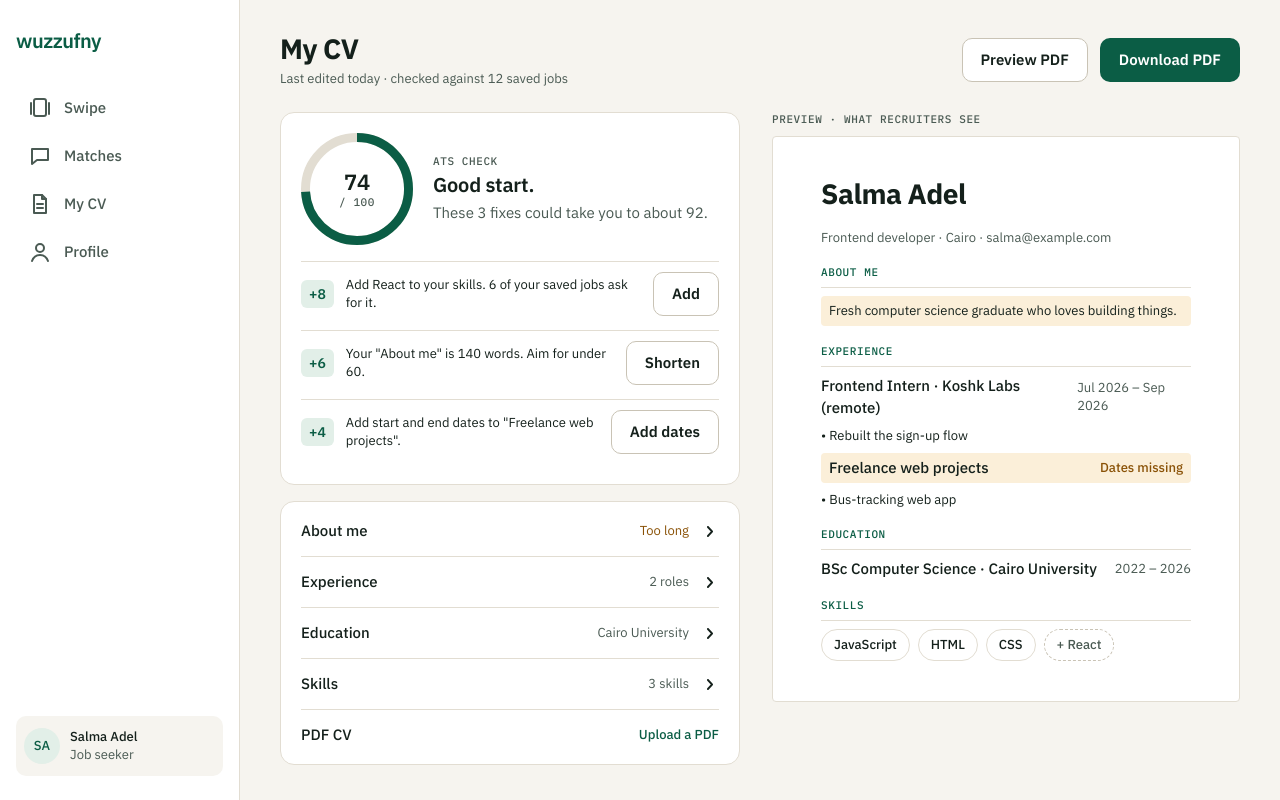
it: H6 My CV › a one-click fix sends the action and shows the new score
Click the button "Add": [686, 294] box 653,272 -> 719,316
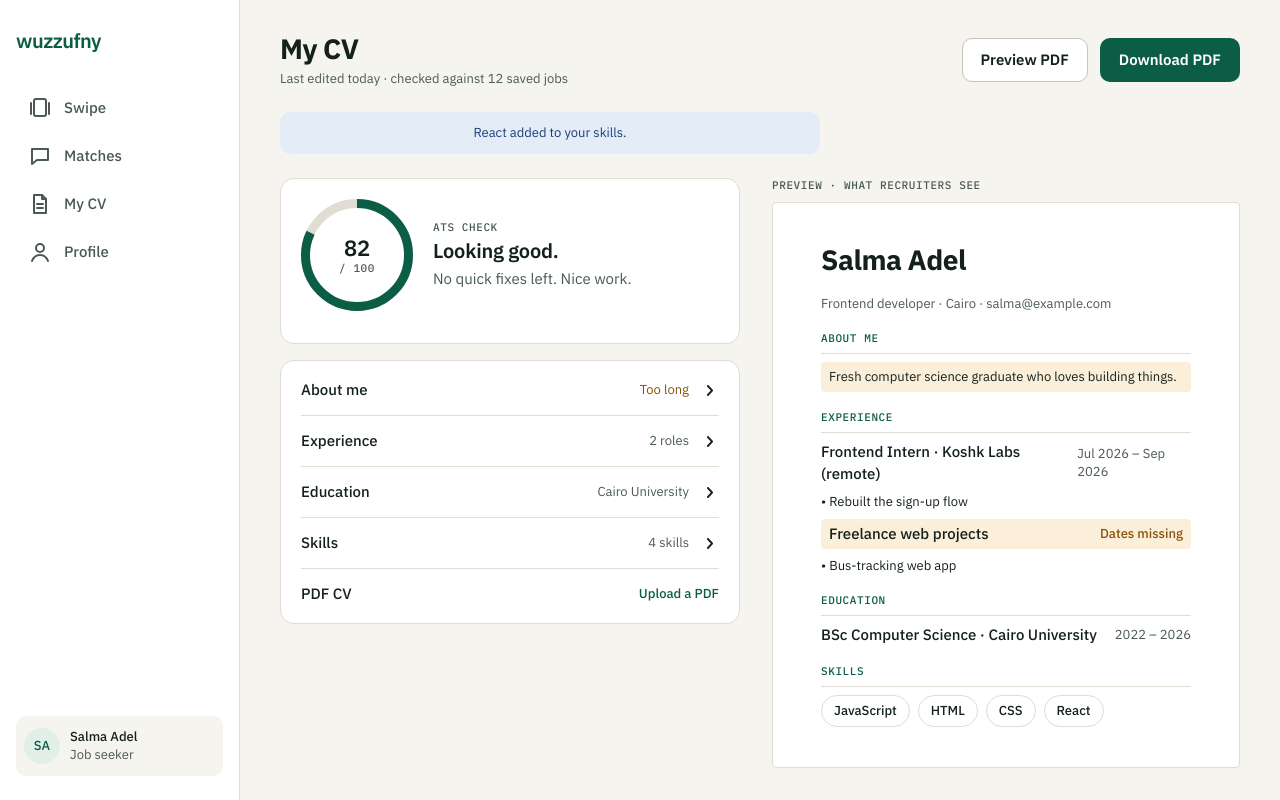
Check: the picture named "ATS score 82 out of 100" is shown, box 301,199 -> 413,311
Check: the text "React added to your skills." is shown, box 280,112 -> 820,154
